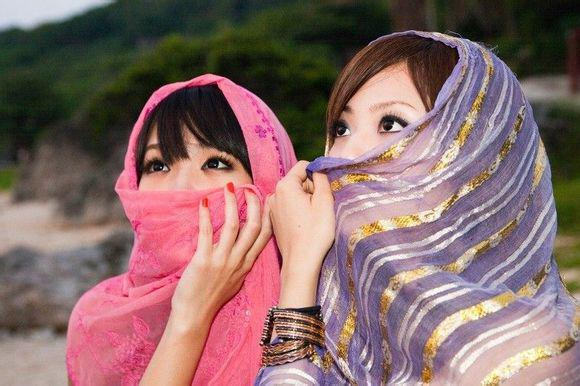NONE: (328, 102, 439, 227)
OK: (132, 139, 257, 264)
